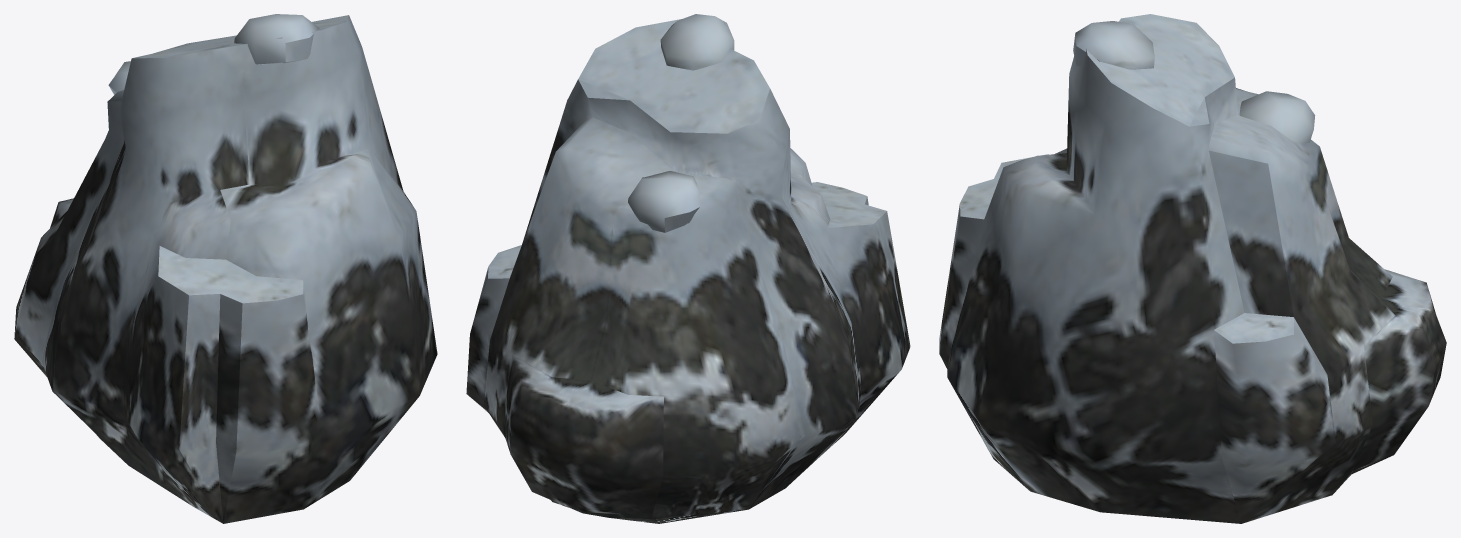
The model's file is Event_SnowMagicStone_01.FBX.
The picture shows the model from 3 angles, left to right: view 1: azimuth 30°, elevation 25°; view 2: azimuth 150°, elevation 25°; view 3: azimuth 270°, elevation 25°; orthographic projection. The views are drawn at different scales.
Parts seen in each view (by area): view 1: Event_SnowMagicStone_01; view 2: Event_SnowMagicStone_01; view 3: Event_SnowMagicStone_01.
Boxes of the visible parts, x1,y1,x2,y2 form: Event_SnowMagicStone_01: (14,14,437,523); Event_SnowMagicStone_01: (466,14,910,523); Event_SnowMagicStone_01: (939,14,1446,523).
Size of the model in its own units: 136 by 164 by 175.
1 material, 1 textured.
